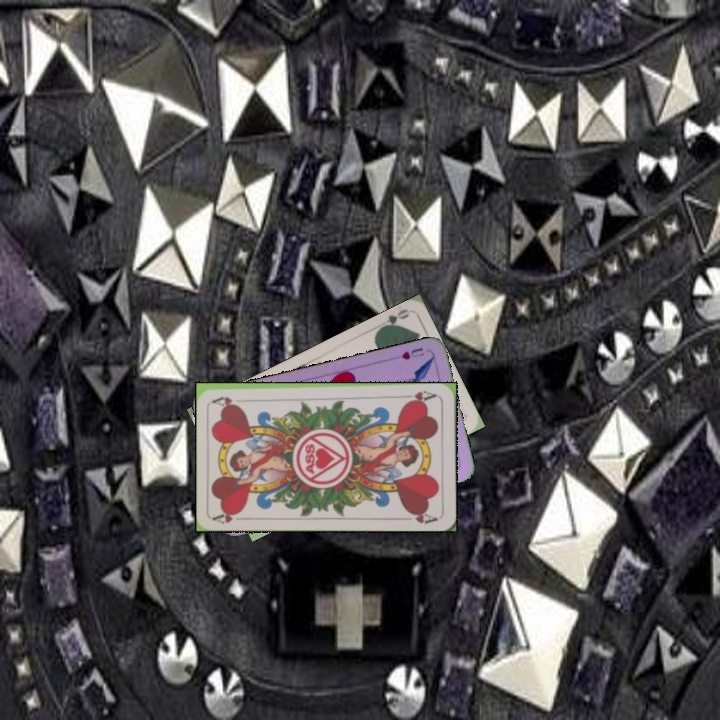GO: (374, 305, 412, 333)
HA: (211, 507, 251, 526), (399, 387, 438, 406)
HU: (397, 344, 427, 362)
